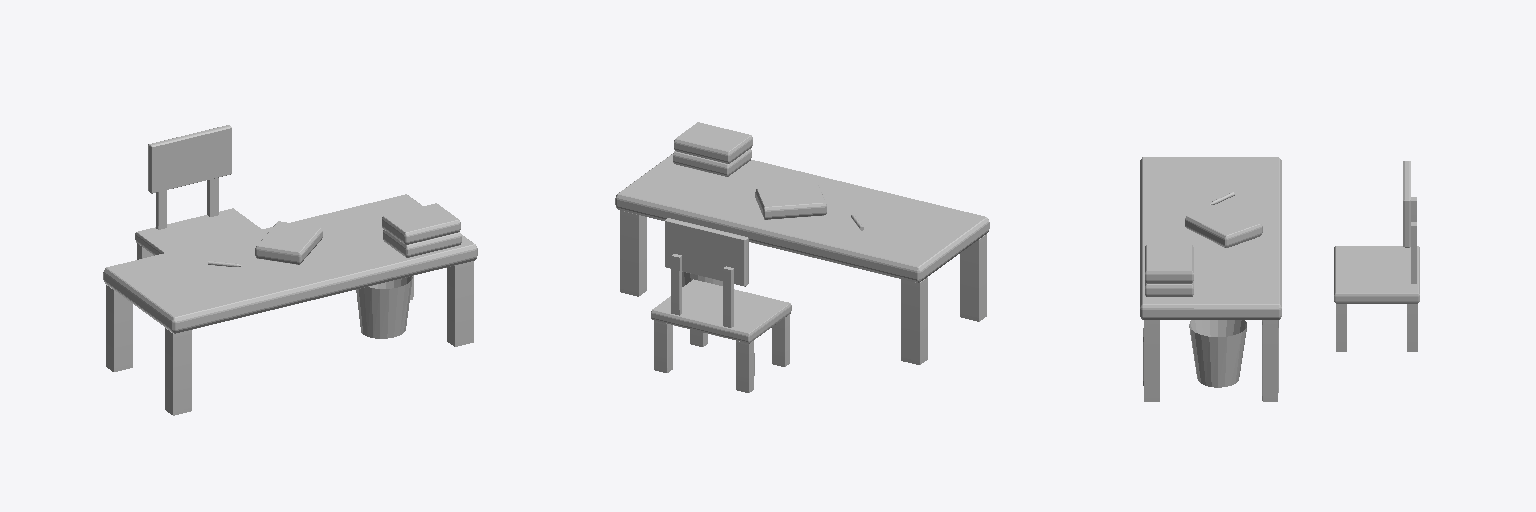
The model's file is floor_0.obj.
3 renders of one model, left to right at view 1: azimuth 30°, elevation 25°; view 2: azimuth 150°, elevation 25°; view 3: azimuth 270°, elevation 25°, orthographic.
Parts seen in each view (by area): view 1: pCube60_lambert1_0; view 2: pCube60_lambert1_0; view 3: pCube60_lambert1_0.
Part boxes in pixels (x1,y1,x2,y2): pCube60_lambert1_0: (103, 125, 477, 415); pCube60_lambert1_0: (615, 122, 989, 392); pCube60_lambert1_0: (1140, 157, 1419, 401).
Size of the model in its own units: 12.06 by 5.64 by 9.58.